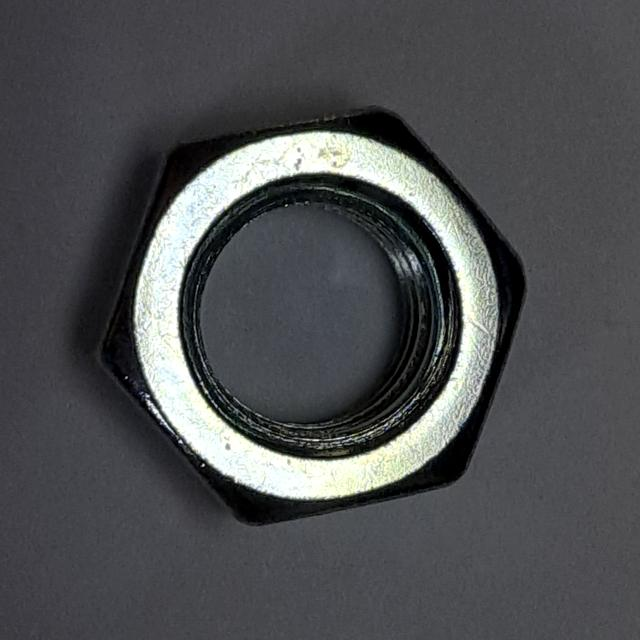Excellent: (77, 91, 538, 542)
